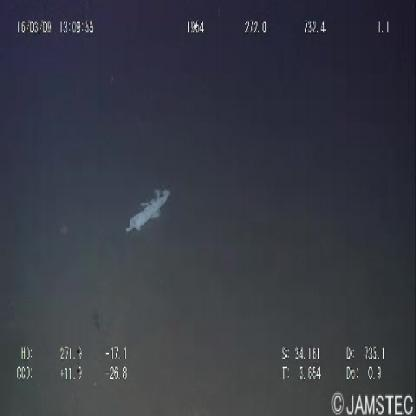Rác: (122, 183, 174, 242)
